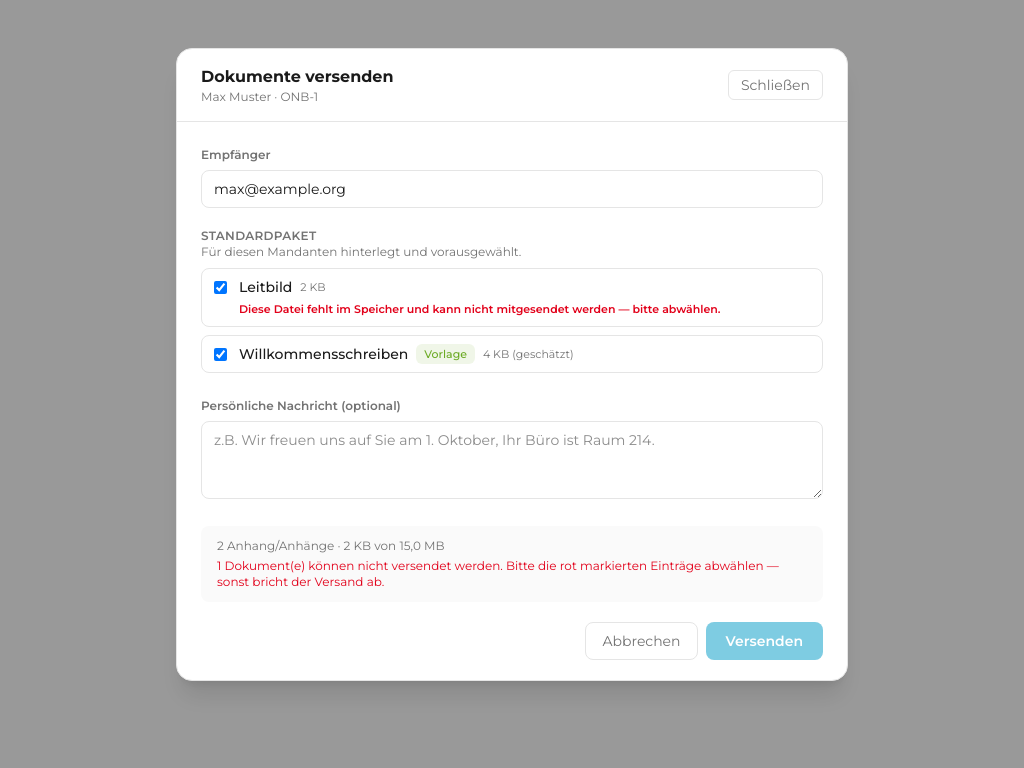
it: Versand-Knopf › gibt wieder frei, sobald die kaputte Position abgewaehlt ist
Expected: the button "Versenden" is disabled, [706, 622, 823, 660]
Click the 1st checkbox at (220, 288), box [214, 281, 227, 294]
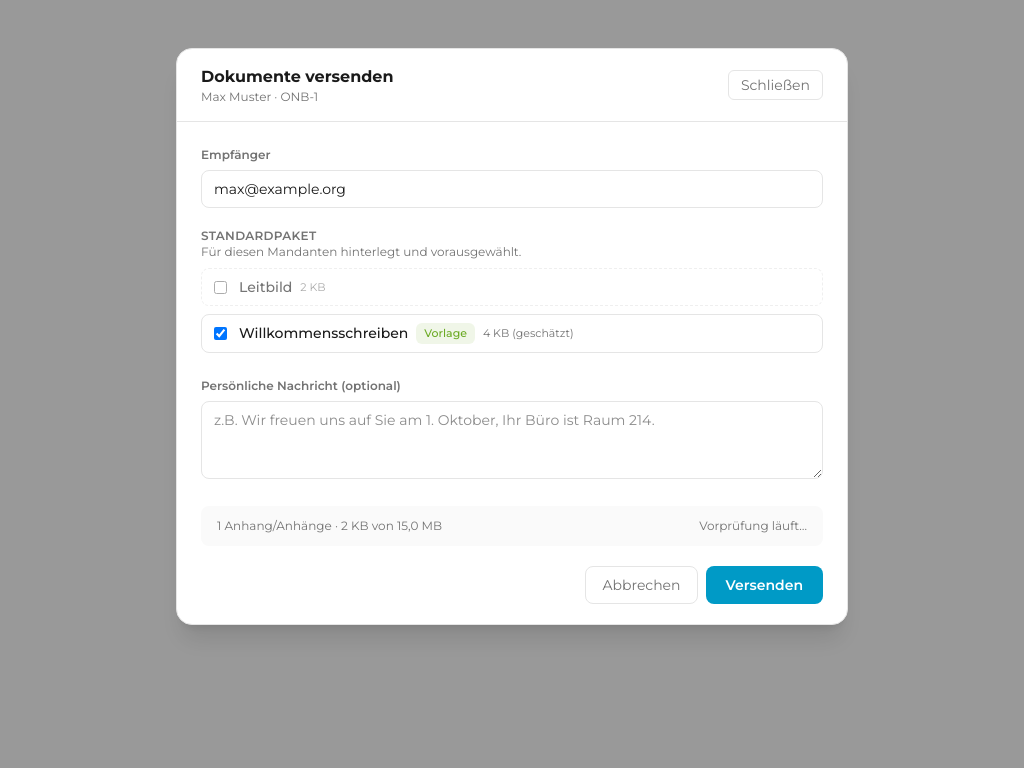
Expected: the button "Versenden" is enabled, [706, 566, 823, 604]
